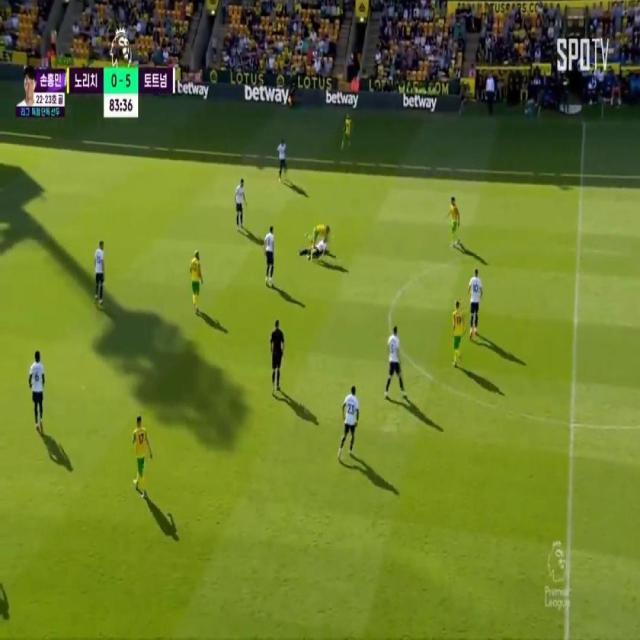player: (132, 413, 151, 495), (340, 382, 359, 455), (386, 320, 403, 396), (31, 351, 44, 419), (302, 236, 338, 260), (470, 269, 482, 334), (191, 243, 201, 320), (454, 296, 464, 360), (446, 196, 460, 239), (96, 238, 105, 300), (307, 220, 330, 243), (235, 177, 244, 228), (263, 229, 273, 272), (343, 108, 351, 156), (278, 140, 286, 181)
referee: (272, 312, 285, 393)
